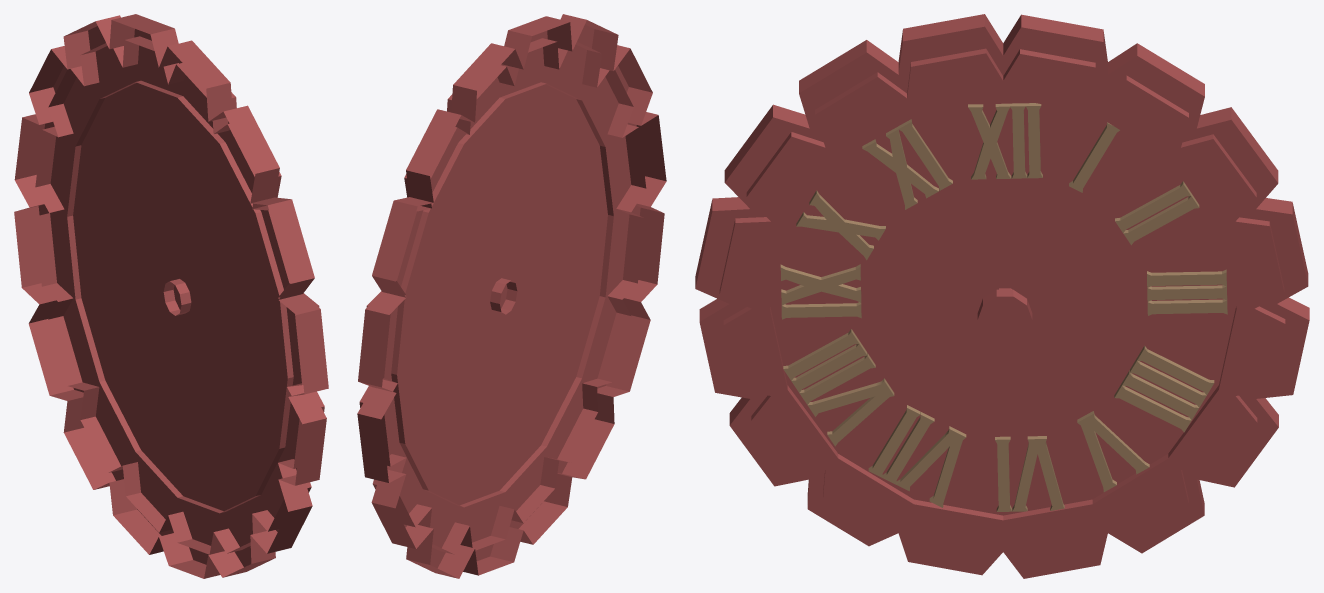
Rendered from Clock2.fbx.
3 views of the same model, side by side, from view 1: azimuth 30°, elevation 25°; view 2: azimuth 150°, elevation 25°; view 3: azimuth 270°, elevation 25° (orthographic). The views are drawn at different scales.
Parts seen in each view (by area): view 1: polySurface1589.001; view 2: polySurface1589.001; view 3: polySurface1589.001.
Part boxes in pixels (x1=…): polySurface1589.001: x1=14, y1=14, x2=328, y2=578; polySurface1589.001: x1=357, y1=14, x2=666, y2=578; polySurface1589.001: x1=695, y1=14, x2=1309, y2=578.
Size of the model in its own units: 8.62 by 78.51 by 79.13.
